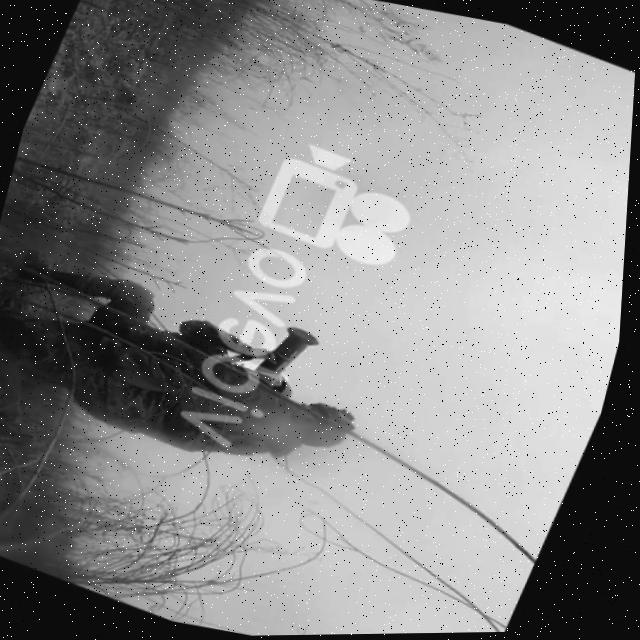rocket: (251, 316, 328, 395)
